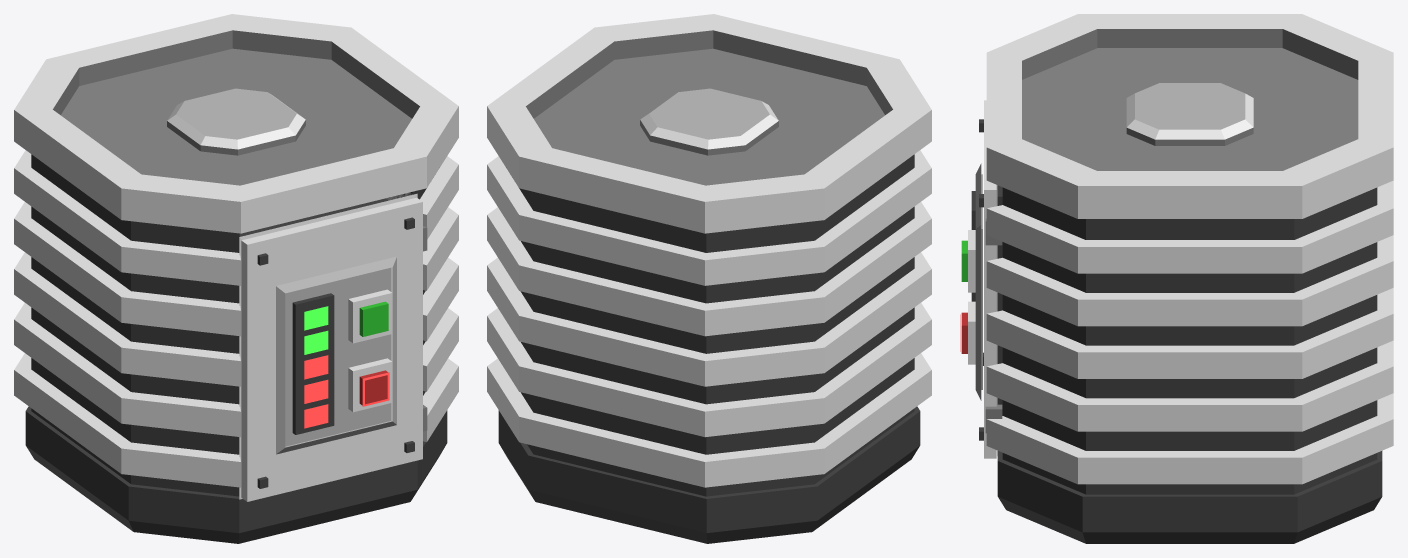
File: smes.glb
3 views of the same model, side by side, from view 1: azimuth 30°, elevation 25°; view 2: azimuth 150°, elevation 25°; view 3: azimuth 270°, elevation 25° (orthographic). The views are drawn at different scales.
Visible parts, largest first — view 1: Recessed_Top_Rim, Service_Door, Top_Well, Beveled_Foot, Octagonal_Core, Cooling_Rib_04, Cooling_Rib_05, Cooling_Rib_03, Cooling_Rib_02, Cooling_Rib_01, Control_Recess, Top_Octagonal_Plug (+7 smaller); view 2: Recessed_Top_Rim, Octagonal_Core, Top_Well, Beveled_Foot, Cooling_Rib_05, Cooling_Rib_03, Cooling_Rib_04, Cooling_Rib_01, Cooling_Rib_02, Top_Octagonal_Plug; view 3: Recessed_Top_Rim, Octagonal_Core, Top_Well, Beveled_Foot, Cooling_Rib_05, Cooling_Rib_04, Cooling_Rib_02, Cooling_Rib_03, Cooling_Rib_01, Top_Octagonal_Plug, Service_Door, Control_Recess_Bevel (+1 smaller).
Part boxes in pixels (box(x1,y1,x2,y2)): Recessed_Top_Rim: box(14, 14, 458, 233); Service_Door: box(241, 197, 422, 501); Top_Well: box(61, 48, 411, 185); Beveled_Foot: box(25, 406, 447, 543); Octagonal_Core: box(31, 154, 426, 496); Cooling_Rib_04: box(14, 192, 458, 336); Cooling_Rib_05: box(14, 150, 458, 285); Cooling_Rib_03: box(14, 252, 458, 386); Cooling_Rib_02: box(14, 303, 458, 437); Cooling_Rib_01: box(14, 353, 458, 487); Control_Recess: box(285, 267, 391, 446); Top_Octagonal_Plug: box(167, 88, 305, 155); Recessed_Top_Rim: box(487, 14, 931, 233); Octagonal_Core: box(519, 154, 914, 496); Top_Well: box(534, 48, 884, 185); Beveled_Foot: box(498, 406, 920, 543); Cooling_Rib_05: box(487, 150, 931, 285); Cooling_Rib_03: box(487, 252, 931, 386); Cooling_Rib_04: box(487, 202, 931, 336); Cooling_Rib_01: box(487, 353, 931, 487); Cooling_Rib_02: box(487, 303, 931, 437); Top_Octagonal_Plug: box(640, 88, 778, 155); Recessed_Top_Rim: box(986, 14, 1393, 218); Octagonal_Core: box(1002, 187, 1377, 494); Top_Well: box(1022, 48, 1358, 170); Beveled_Foot: box(997, 451, 1382, 543); Cooling_Rib_05: box(986, 180, 1393, 273); Cooling_Rib_04: box(986, 235, 1393, 326); Cooling_Rib_02: box(986, 340, 1393, 431); Cooling_Rib_03: box(986, 288, 1393, 378); Cooling_Rib_01: box(986, 393, 1393, 484); Top_Octagonal_Plug: box(1126, 83, 1253, 145); Service_Door: box(984, 100, 996, 458); Control_Recess_Bevel: box(975, 163, 981, 400).
Size of the model in its own units: 0.98 by 0.973 by 1.04.
